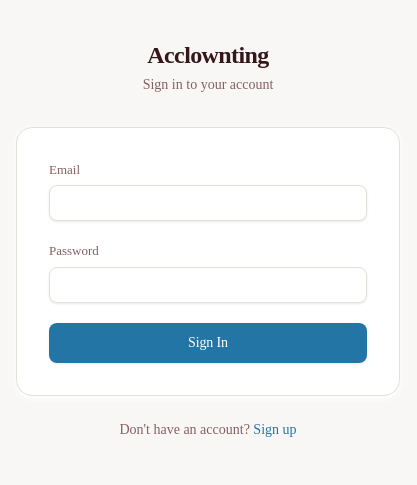
Scenario: LoginPage › shows auth error from Supabase
Type "user@test.com" into the field labelled "Email" at (208, 203), box [49,185,367,221]
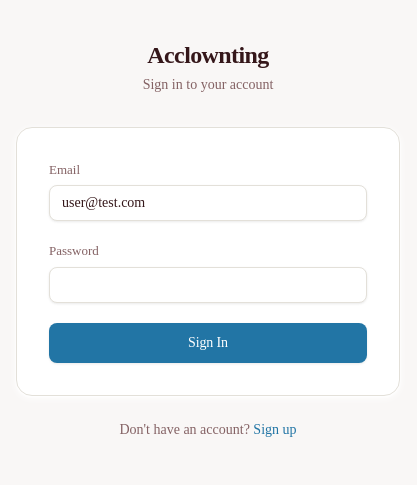
Type "wrongpass123" into the password field labelled "Password" at (208, 284), box [49,266,367,302]
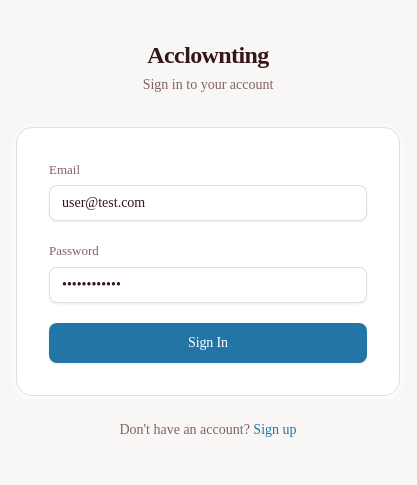
Submit the form "Sign In", box [49,160,367,362]
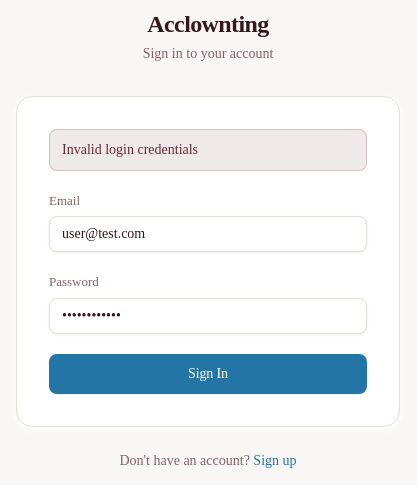
Expected: the text "Invalid login credentials" is shown, [49,128,367,170]
